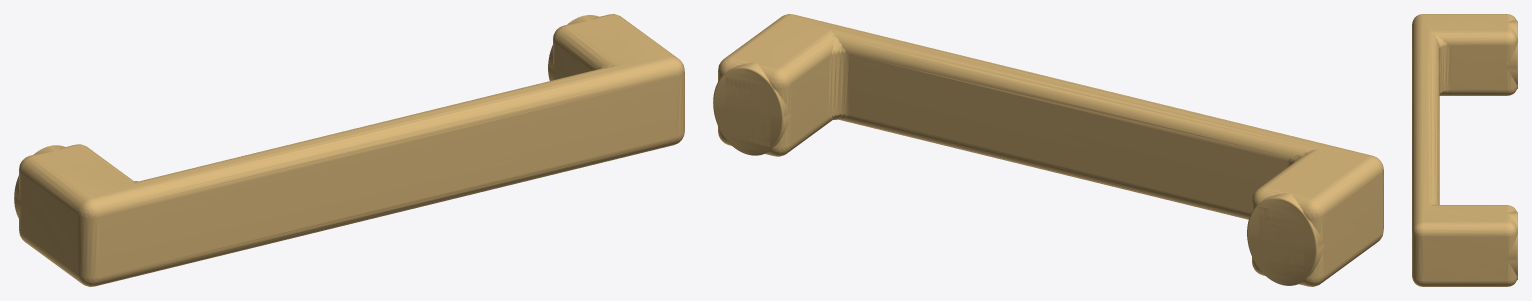
Rendered from eurofit-h-65804-128gl-v3.glb.
3 renders of one model, left to right at view 1: azimuth 30°, elevation 25°; view 2: azimuth 150°, elevation 25°; view 3: azimuth 270°, elevation 25°, orthographic. The views are drawn at different scales.
Parts seen in each view (by area): view 1: Continuous U grip and legs; view 2: Continuous U grip and legs, Rounded outer foot, Rounded outer foot.001; view 3: Continuous U grip and legs, Rounded outer foot.001, Rounded outer foot.
Boxes of the visible parts, bbox=[...] form: Continuous U grip and legs: bbox=[19, 14, 684, 286]; Continuous U grip and legs: bbox=[718, 14, 1383, 286]; Rounded outer foot: bbox=[1247, 193, 1324, 285]; Rounded outer foot.001: bbox=[713, 62, 790, 155]; Continuous U grip and legs: bbox=[1412, 14, 1517, 286]; Rounded outer foot.001: bbox=[1507, 211, 1517, 279]; Rounded outer foot: bbox=[1507, 20, 1517, 88].
Bounding box in the file's own units: 0.145 × 0.02 × 0.03.
